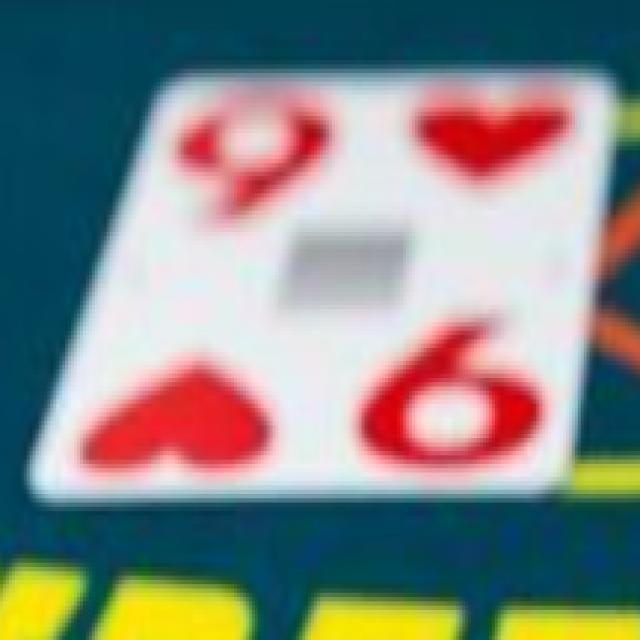Card-9: (27, 72, 618, 499)
